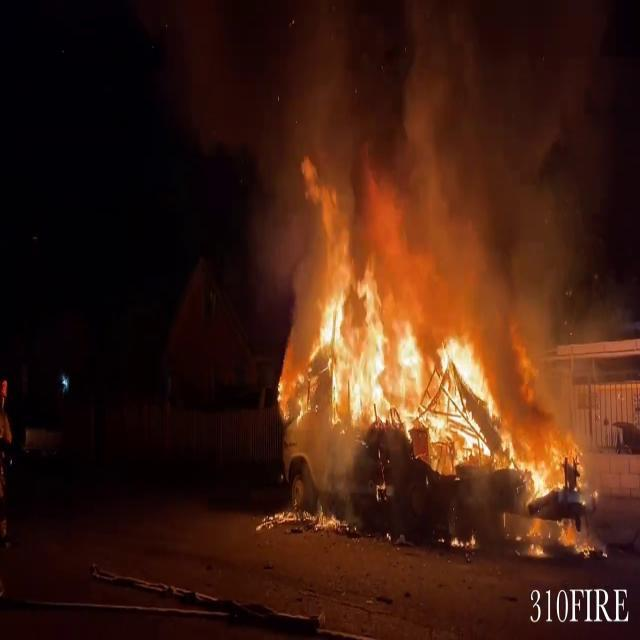Fire: (288, 275, 589, 549)
Smoke: (156, 1, 624, 306)
